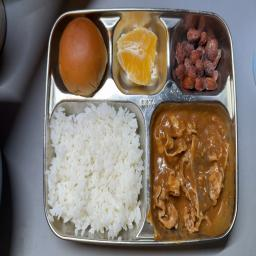100_beef: (152, 106, 228, 229)
100_bread: (56, 16, 109, 96)
100_nuts: (171, 21, 223, 92)
100_rice: (46, 100, 143, 236)
50_orange: (117, 19, 160, 91)
